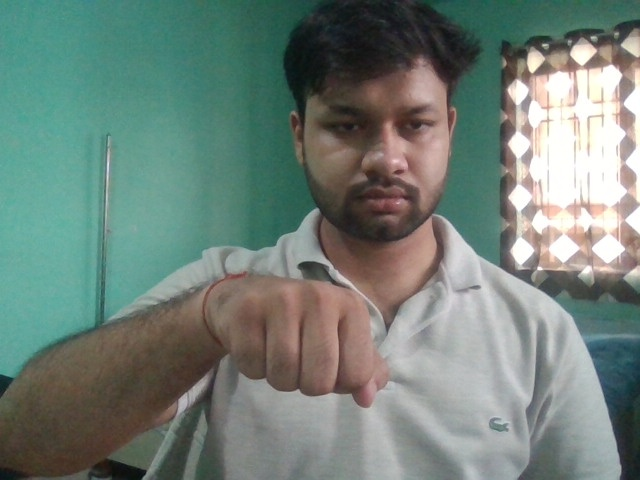Yes: (198, 252, 398, 421)
